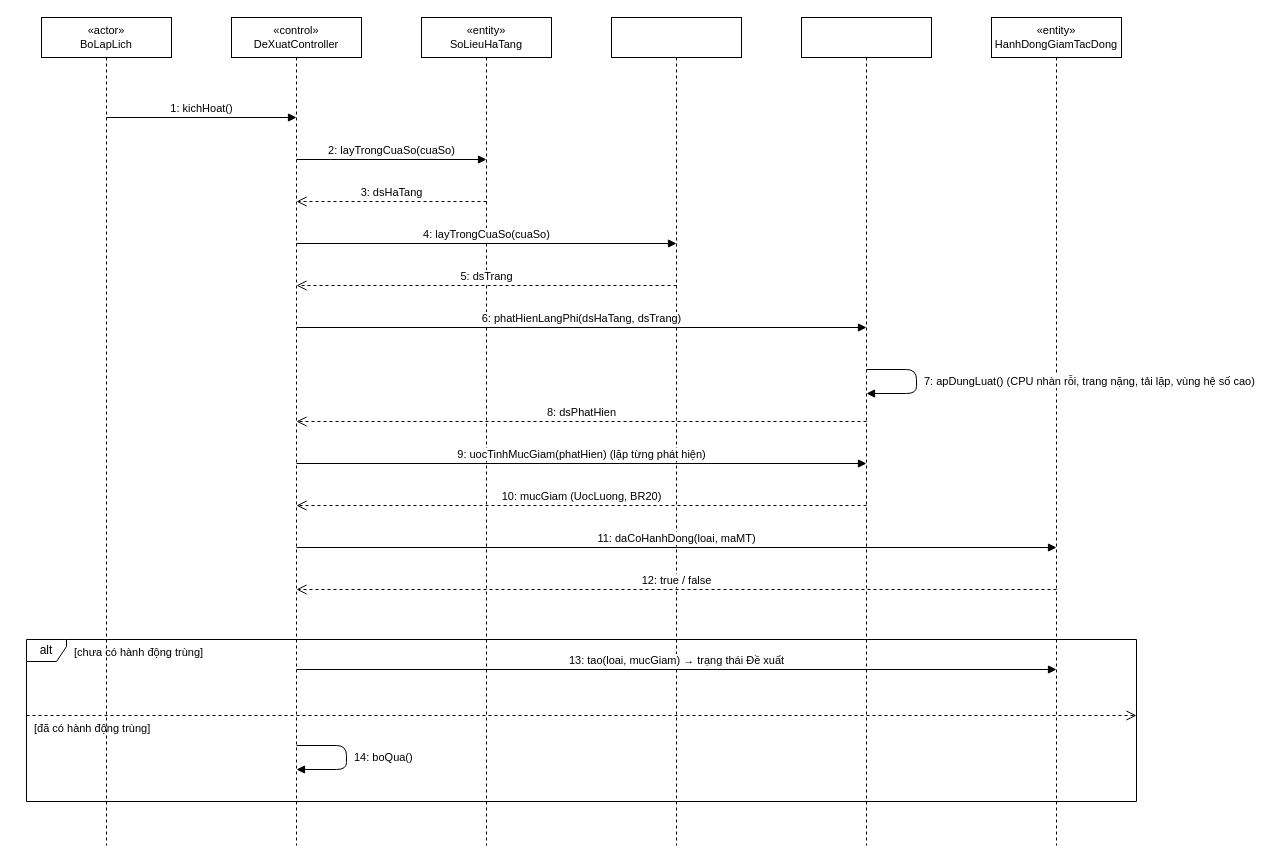
The diagram is 1273 pixels wide and 863 high, and some of its shapes have lost their labels. The box of each missing label's shape, as (x1, y1, x2, y2) in pixels:
«control» BoLuatLangPhi: (800, 16, 932, 846)
«entity» SoLieuTrang: (610, 16, 742, 846)
